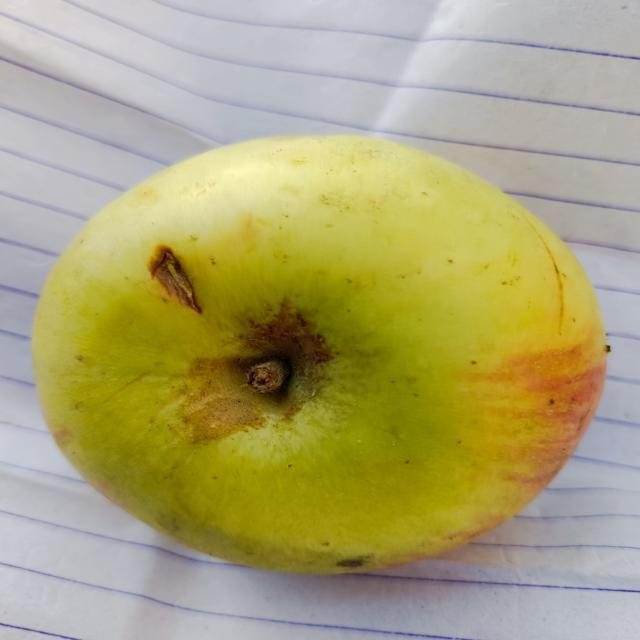Rotten: (47, 157, 575, 568)
